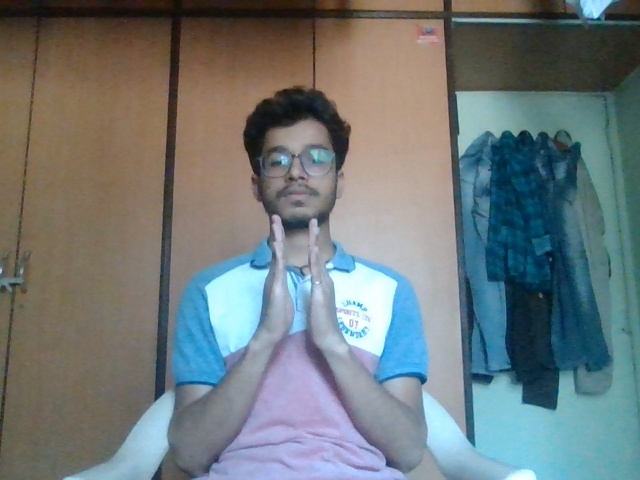morning: (247, 210, 360, 353)
